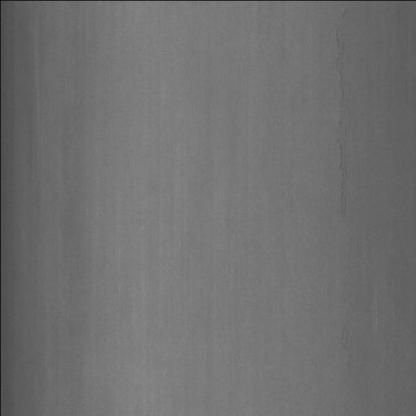silk_spot: (332, 44, 362, 236)
